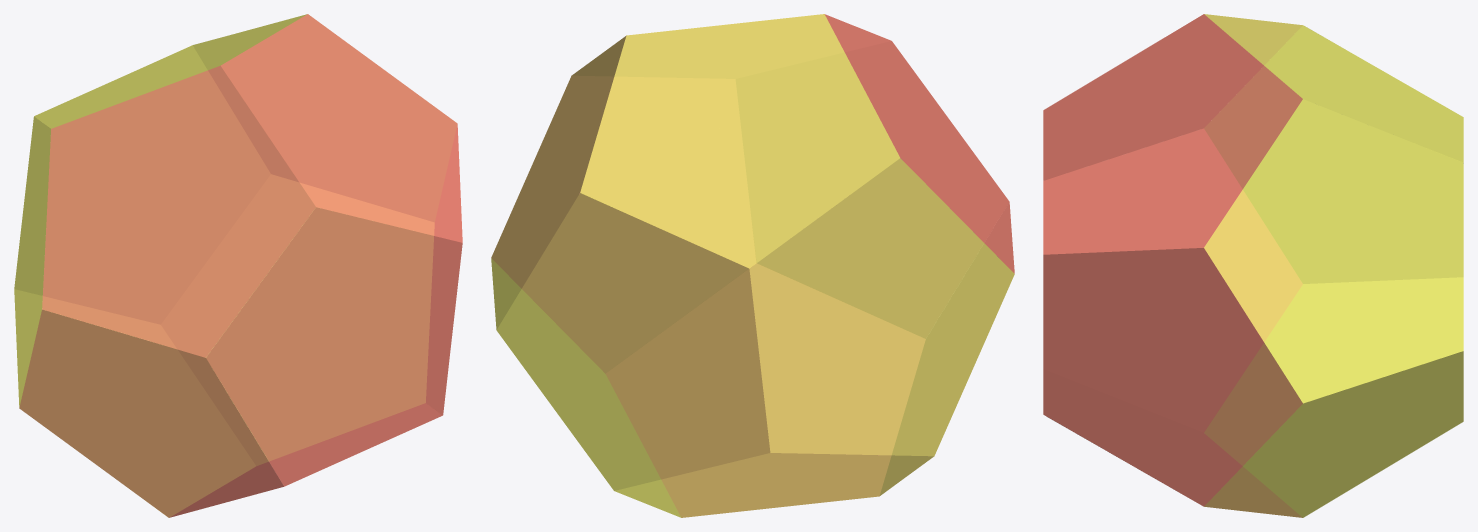
The picture shows the model from 3 angles, left to right: view 1: azimuth 30°, elevation 25°; view 2: azimuth 150°, elevation 25°; view 3: azimuth 270°, elevation 25°; orthographic projection. The views are drawn at different scales.
Parts seen in each view (by area): view 1: root; view 2: root; view 3: root.
Part boxes in pixels (x1,y1,x2,y2): root: (14, 14, 462, 517); root: (491, 14, 1014, 517); root: (1043, 14, 1463, 517).
Size of the model in its own units: 8.43 by 8.34 by 6.88.
